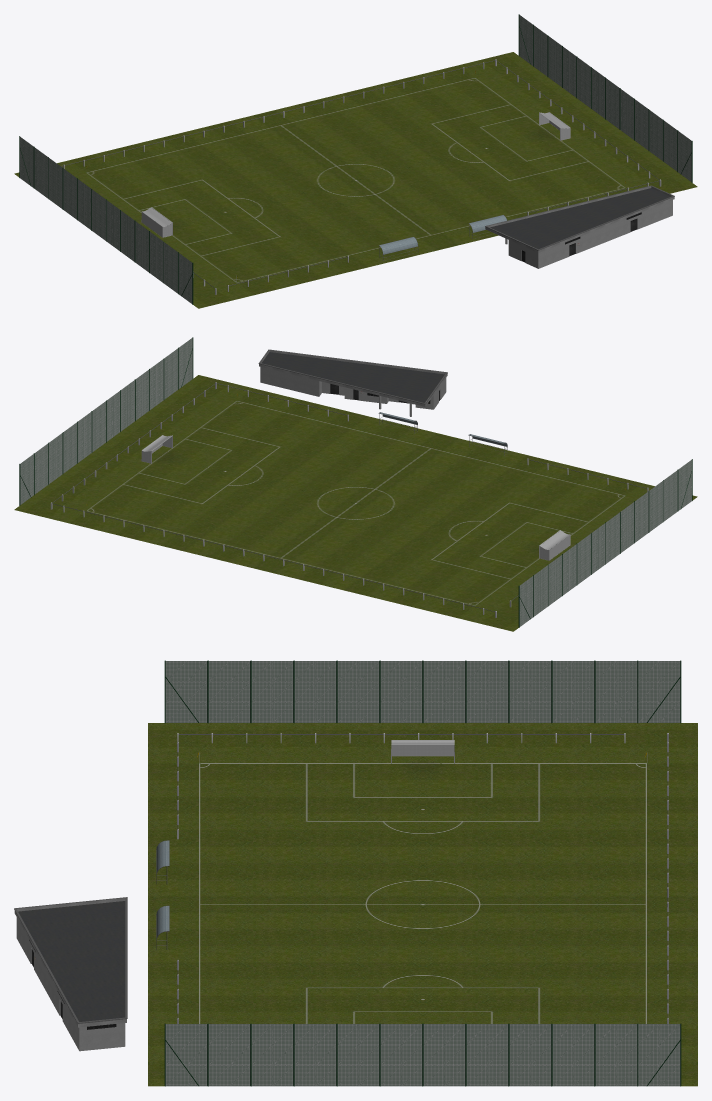
The model's file is soccer_field.glb.
3 renders of one model, top to bottom at view 1: azimuth 30°, elevation 25°; view 2: azimuth 150°, elevation 25°; view 3: azimuth 270°, elevation 25°, orthographic. The views are drawn at different scales.
Visible parts, largest first — view 1: SoccerField; view 2: SoccerField; view 3: SoccerField.
Boxes of the visible parts, box(x1,y1,x2,y2) form: SoccerField: box(14, 14, 697, 308); SoccerField: box(14, 337, 697, 631); SoccerField: box(14, 660, 697, 1086).
Bounding box in the file's own units: 100 × 8.03 × 79.59.
Materials: 1 (1 with a texture image).
